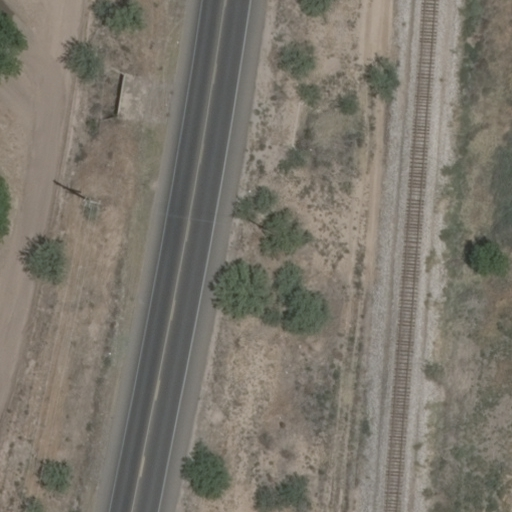DT: (72, 190, 110, 217)
